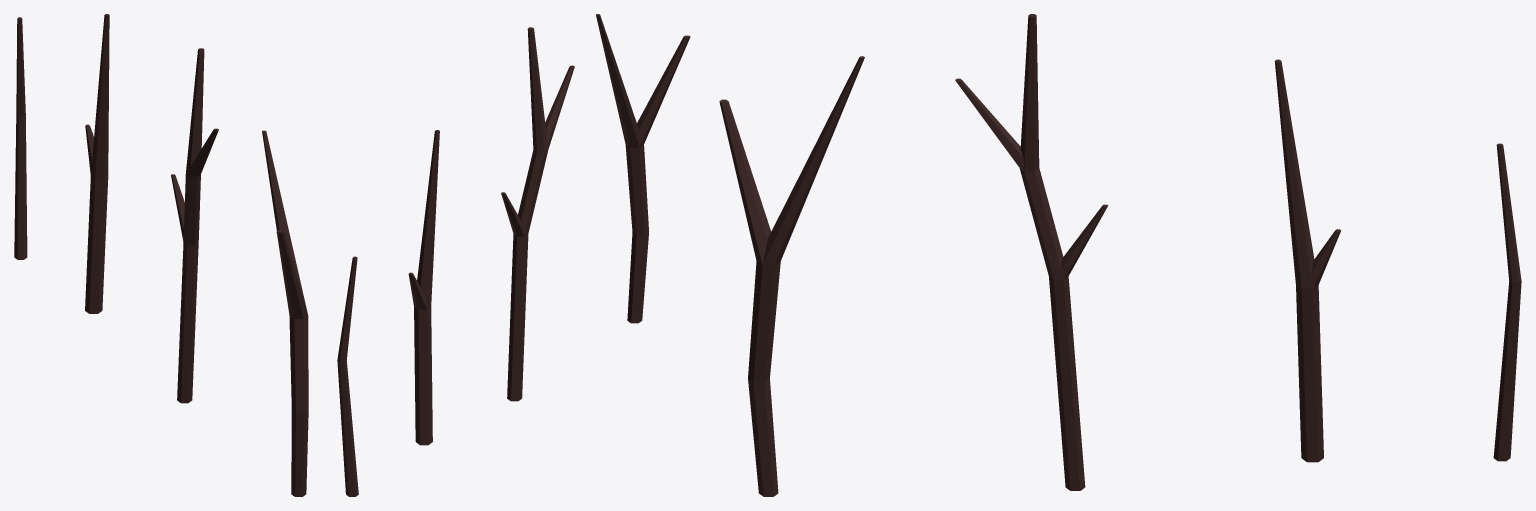
The model's file is bastoni (1).fbx.
The picture shows the model from 3 angles, left to right: view 1: azimuth 30°, elevation 25°; view 2: azimuth 150°, elevation 25°; view 3: azimuth 270°, elevation 25°; orthographic projection. The views are drawn at different scales.
Parts seen in each view (by area): view 1: ramo2, ramo1, ramo3, ramo4; view 2: ramo2, ramo1, ramo3, ramo4; view 3: ramo1, ramo2, ramo3, ramo4.
Part boxes in pixels (x1=…): ramo2: x1=171, y1=48, x2=218, y2=403; ramo1: x1=262, y1=130, x2=308, y2=496; ramo3: x1=85, y1=14, x2=109, y2=313; ramo4: x1=14, y1=17, x2=27, y2=259; ramo2: x1=501, y1=27, x2=574, y2=401; ramo1: x1=596, y1=14, x2=690, y2=323; ramo3: x1=408, y1=130, x2=439, y2=445; ramo4: x1=337, y1=256, x2=358, y2=496; ramo1: x1=719, y1=56, x2=864, y2=496; ramo2: x1=955, y1=14, x2=1108, y2=490; ramo3: x1=1274, y1=59, x2=1341, y2=462; ramo4: x1=1493, y1=143, x2=1521, y2=461.
Bounding box in the file's own units: 22.49 × 150 × 227.
